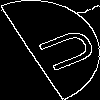U: (25, 25, 100, 79)
